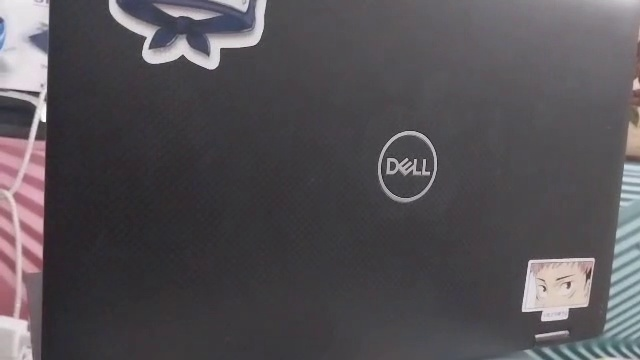laptop: (70, 10, 615, 341)
